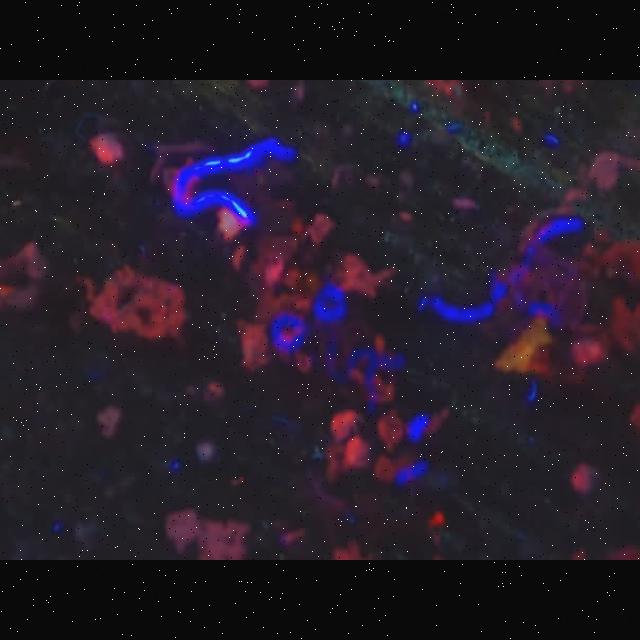Fragment: (164, 511, 250, 561), (95, 404, 121, 441)
